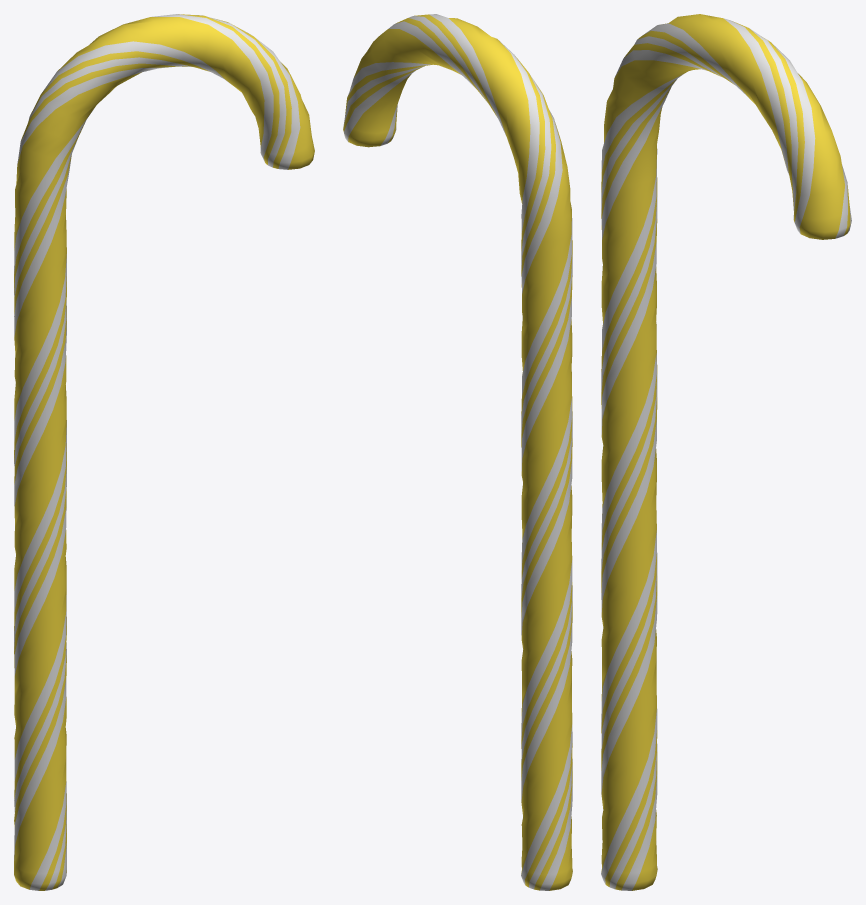
File: Polkagris_3.glb
The picture shows the model from 3 angles, left to right: view 1: azimuth 30°, elevation 25°; view 2: azimuth 150°, elevation 25°; view 3: azimuth 330°, elevation 25°; orthographic projection. The views are drawn at different scales.
Visible parts, largest first — view 1: Polkagrisar.003; view 2: Polkagrisar.003; view 3: Polkagrisar.003.
Boxes of the visible parts, bbox=[...] form: Polkagrisar.003: bbox=[14, 14, 314, 890]; Polkagrisar.003: bbox=[343, 14, 572, 890]; Polkagrisar.003: bbox=[601, 14, 851, 890].
Bounding box in the file's own units: 0.7992 × 2.48 × 0.3131.
